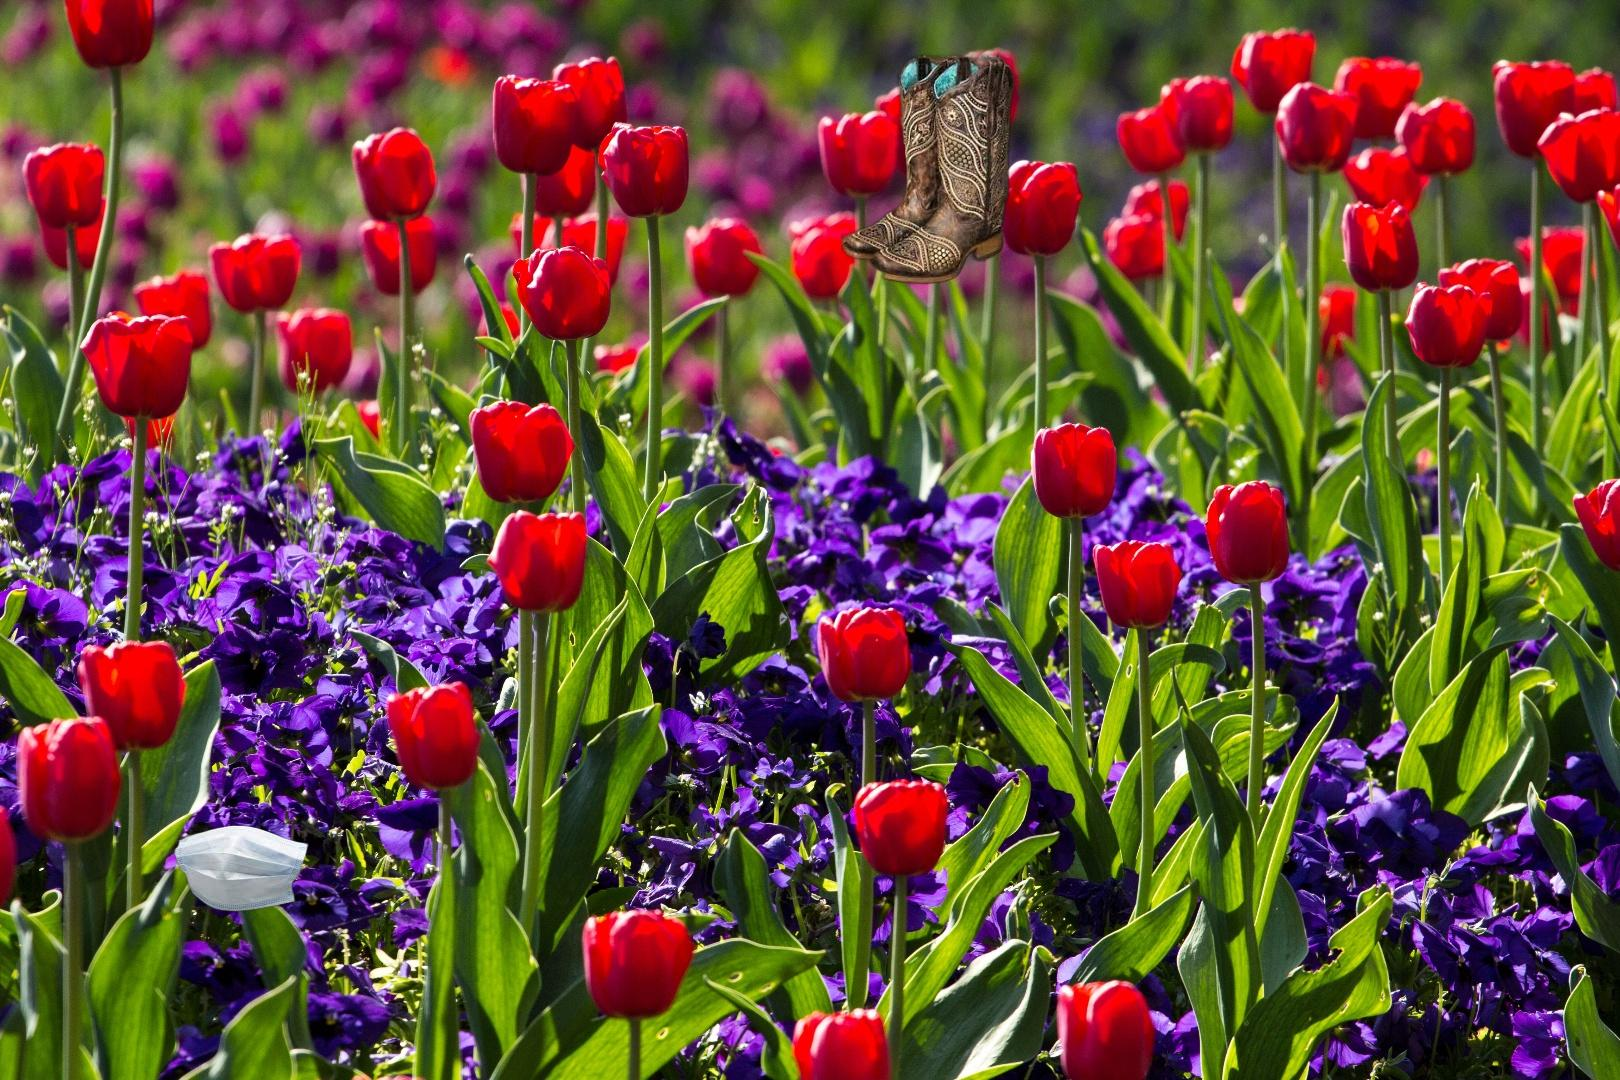shoes: (841, 48, 1019, 286)
trash: (159, 823, 311, 914)
